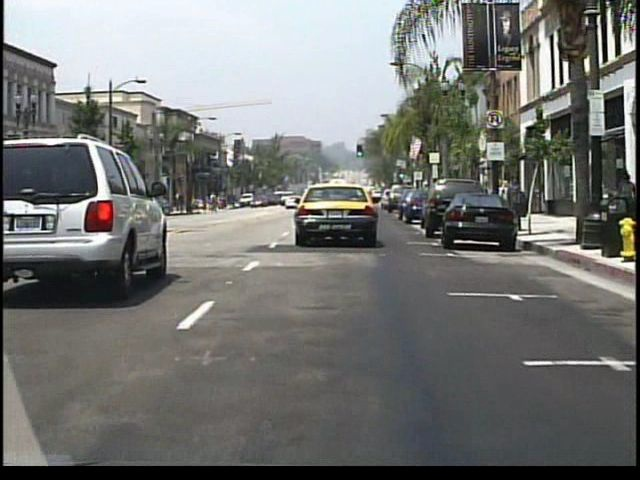person: (608, 171, 635, 232), (505, 176, 521, 220), (497, 180, 509, 215), (228, 195, 235, 211)
